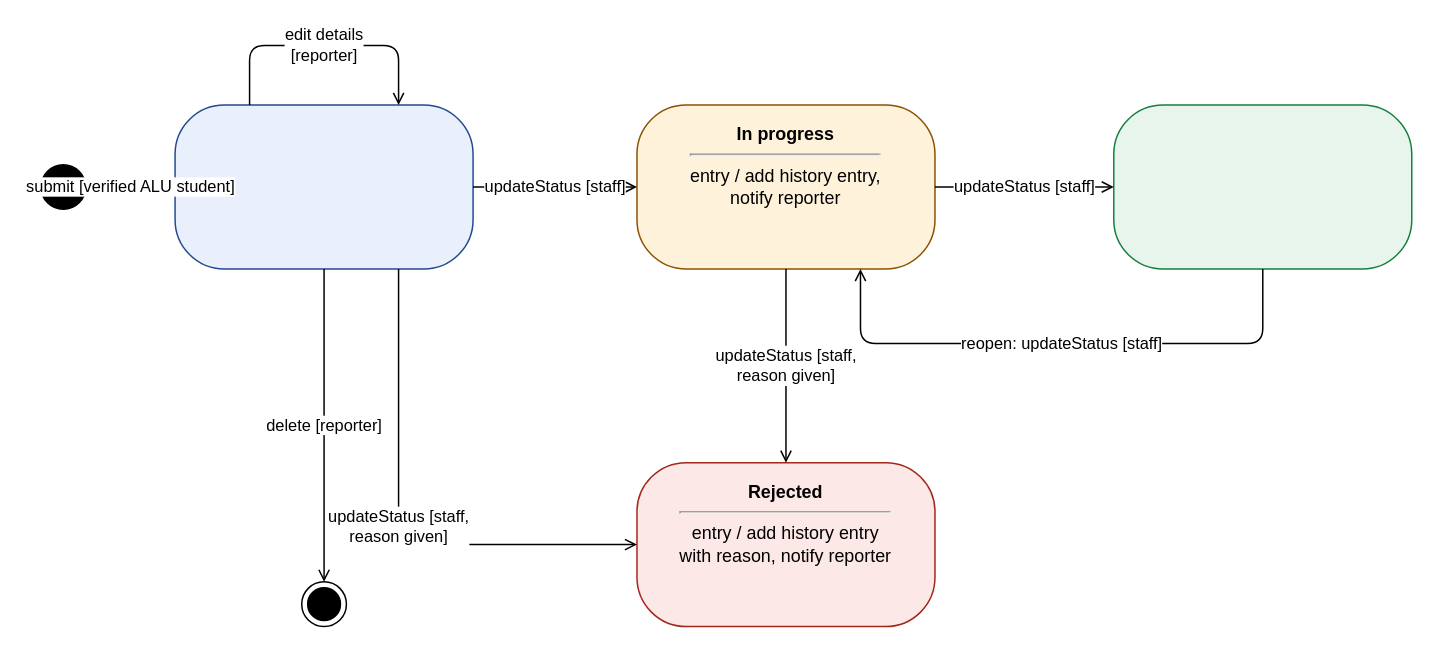
Some shapes in this 1438 by 653 pixel diagram are drawn without their labels. The centre of each missing label's shape, as x and y in pixels:
Resolved entry / add history entry, notify reporter: [1262,186]
Submitted entry / add history entry, notify reporter reporter may edit or delete: [323,186]
